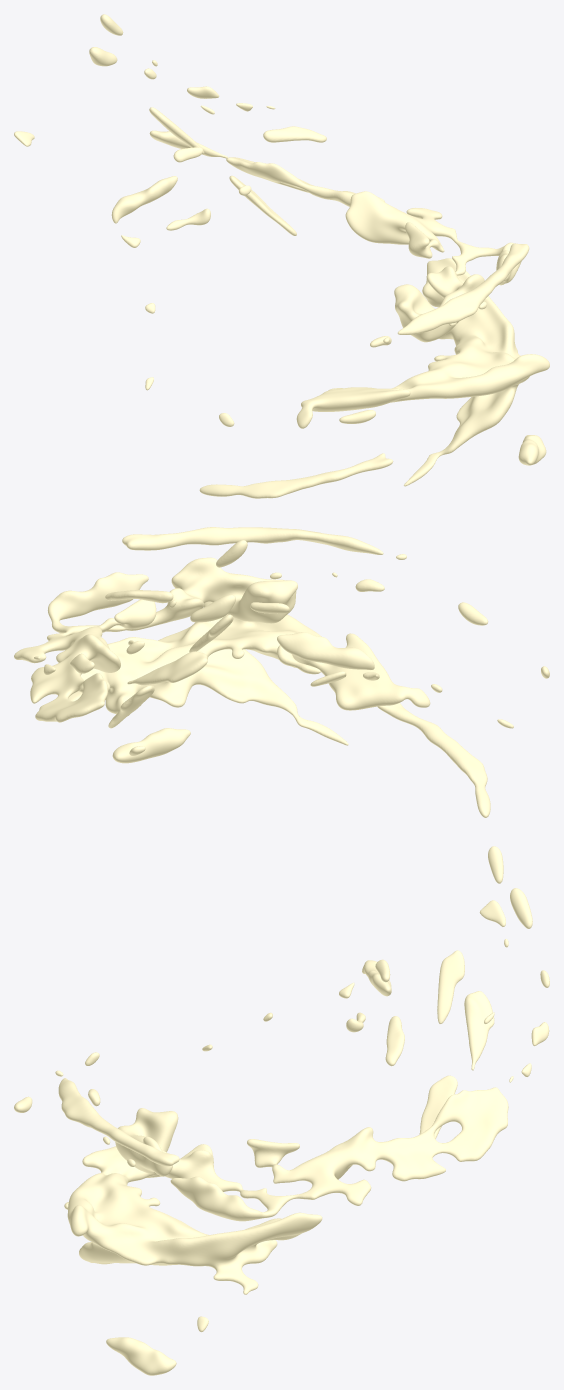
File: splash.glb
3 renders of one model, top to bottom at view 1: azimuth 30°, elevation 25°; view 2: azimuth 150°, elevation 25°; view 3: azimuth 270°, elevation 25°, orthographic. The views are drawn at different scales.
Parts seen in each view (by area): view 1: Fluid_Free; view 2: Fluid_Free; view 3: Fluid_Free.
Boxes of the visible parts, left/top/right/bottom form: Fluid_Free: left=14, top=14, right=549, bottom=498; Fluid_Free: left=14, top=527, right=549, bottom=817; Fluid_Free: left=14, top=846, right=549, bottom=1375.
Bounding box in the file's own units: 422 × 396 × 488.
